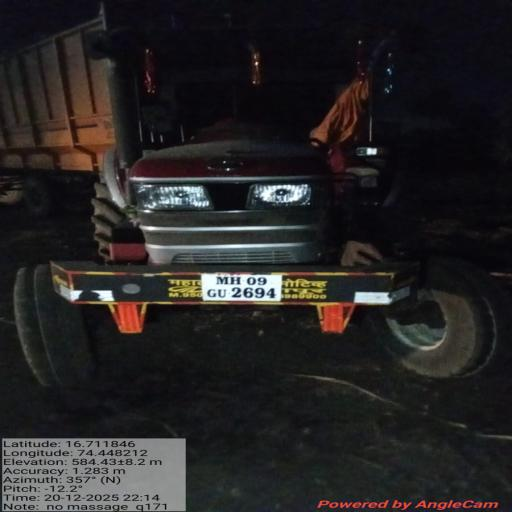number_plate: (190, 266, 298, 310)
